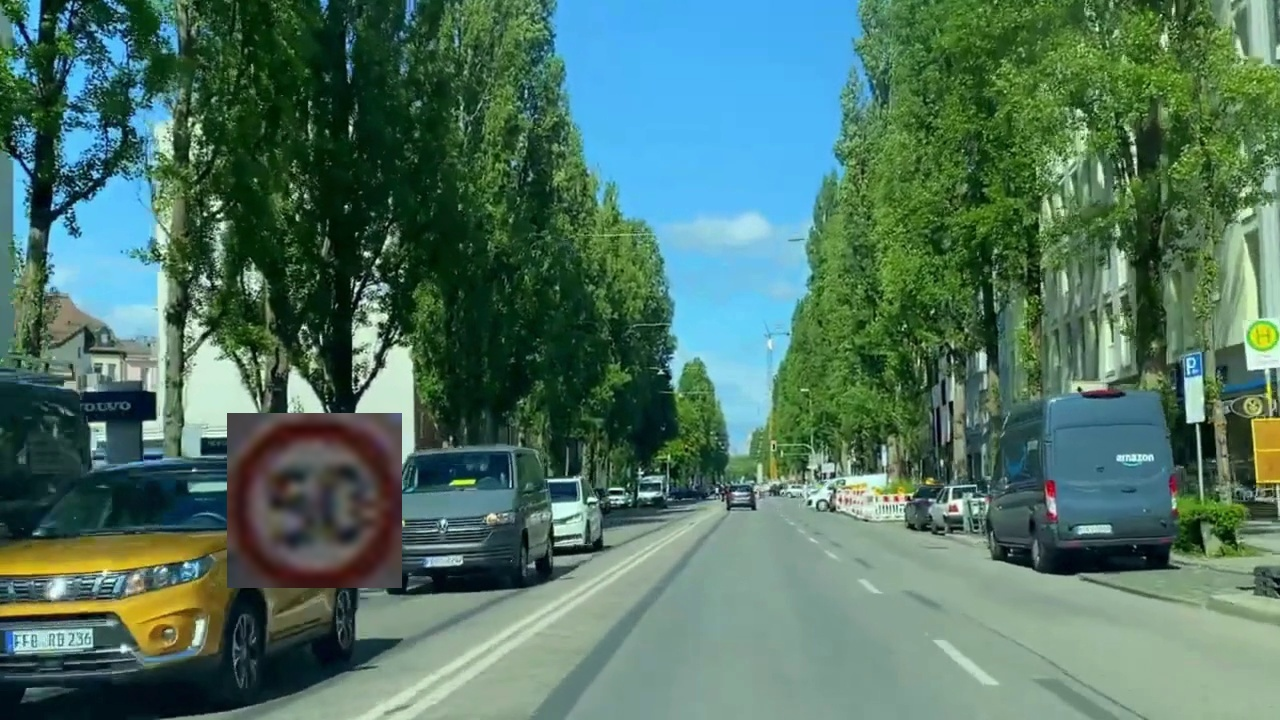Speed 50: (227, 413, 402, 588)
